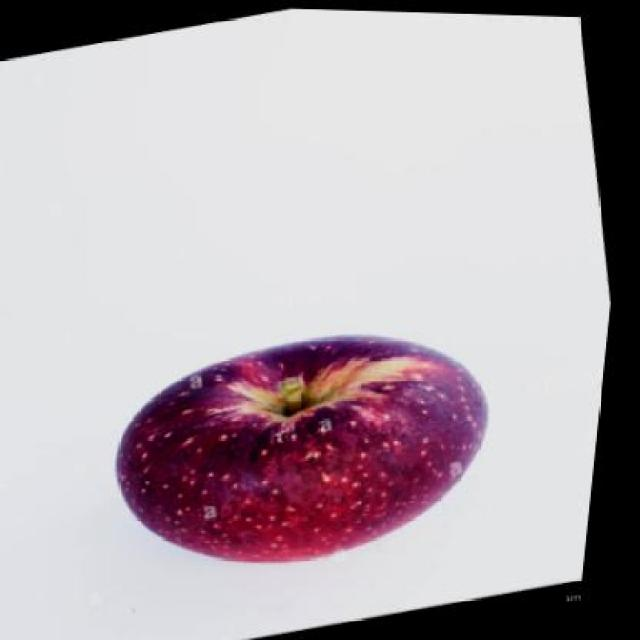Rotten: (118, 344, 485, 564)
